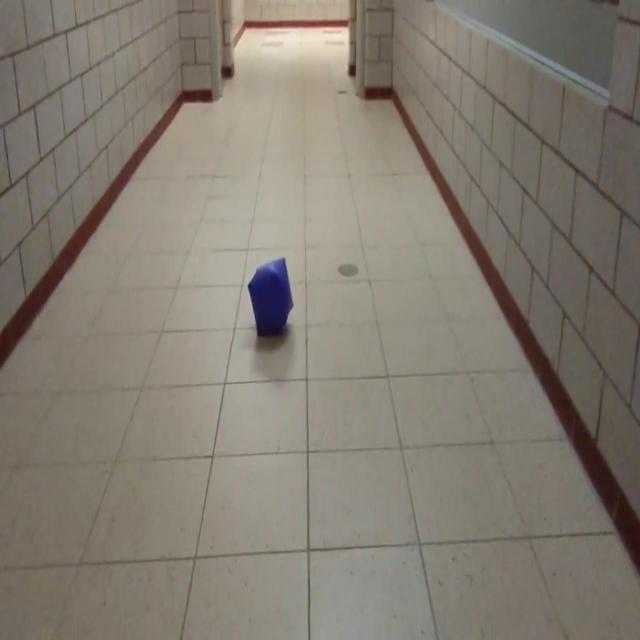frc_cube: (246, 255, 295, 341)
